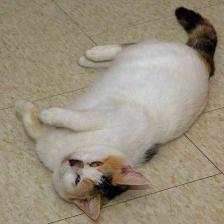cat: (52, 142, 156, 224)
